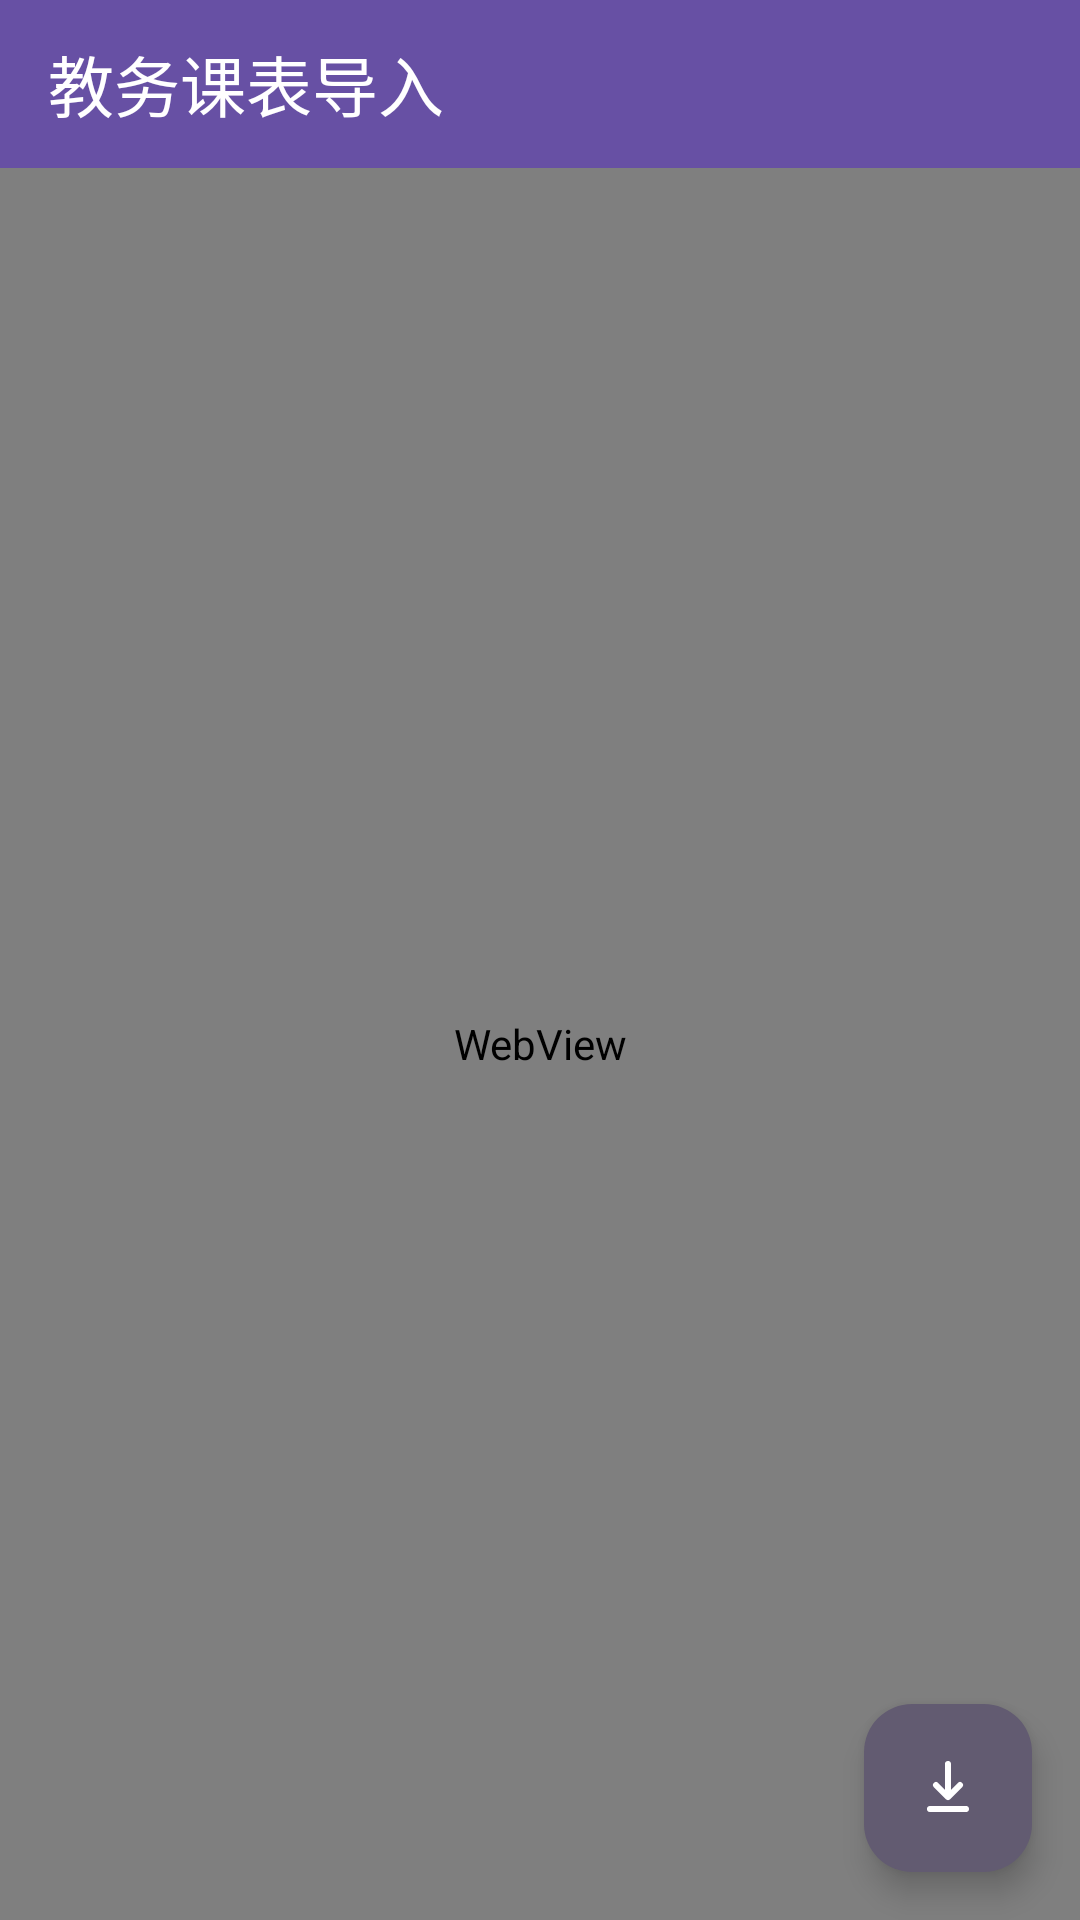

Named icons in this screenshot (1080*1920) and their bounding boxes, (x1, y1, x2, y2):
导入教务课表: (864, 1704, 1032, 1872)
